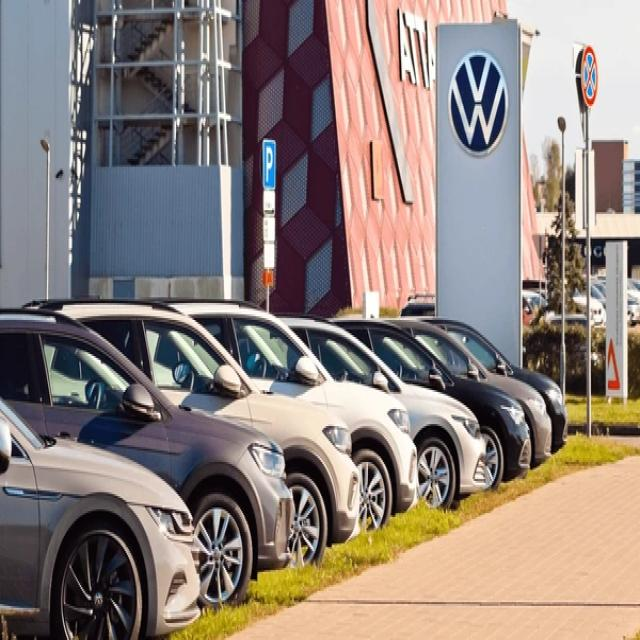wolksvogen: (447, 54, 510, 157)
